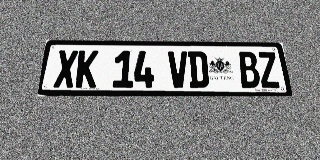1: (112, 51, 134, 88)
4: (134, 51, 154, 88)
B: (237, 52, 261, 88)
D: (188, 51, 209, 88)
K: (75, 50, 99, 88)
V: (168, 51, 189, 88)
X: (53, 50, 78, 88)
Z: (256, 52, 281, 88)
